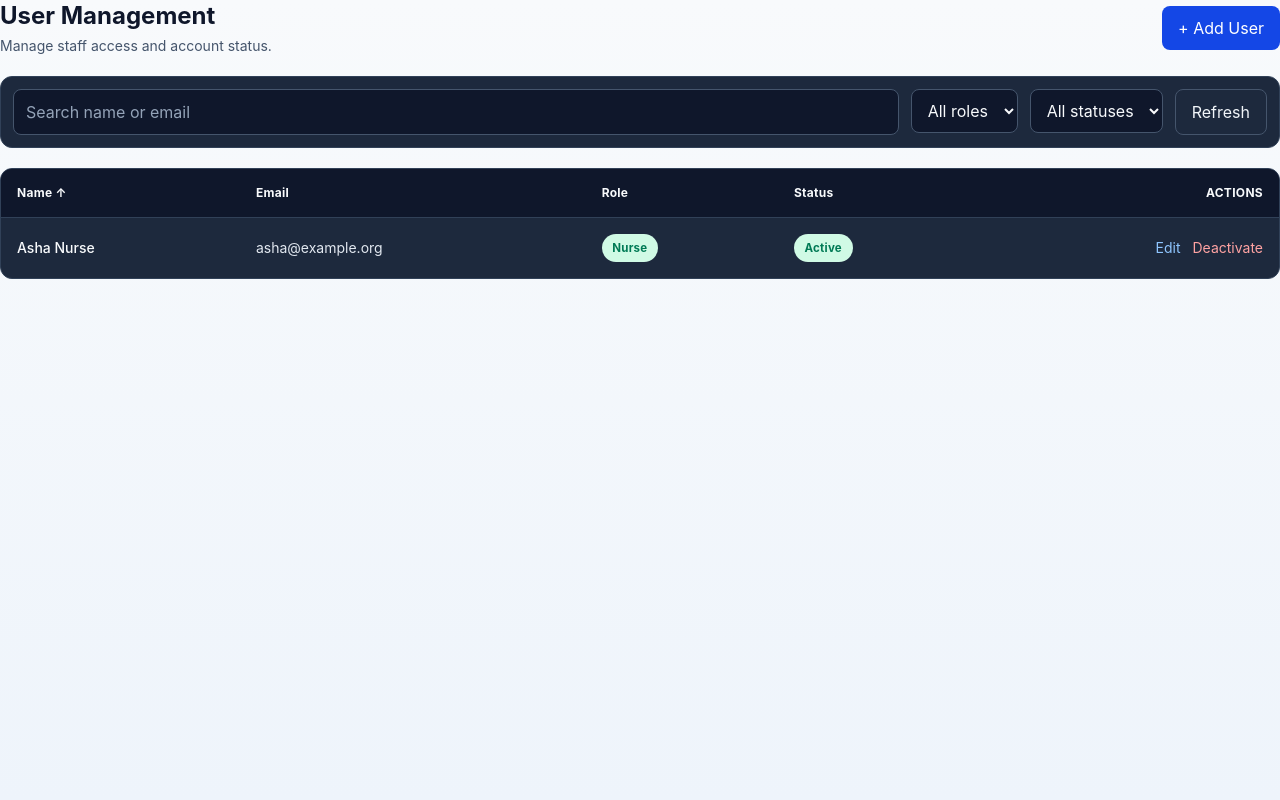
Admin user management › creates a user and refreshes the list after the save succeeds
Expected: the text "Asha Nurse" is shown, [1, 218, 240, 278]
Click the button "+ Add User" at (1221, 28), box [1162, 6, 1279, 50]
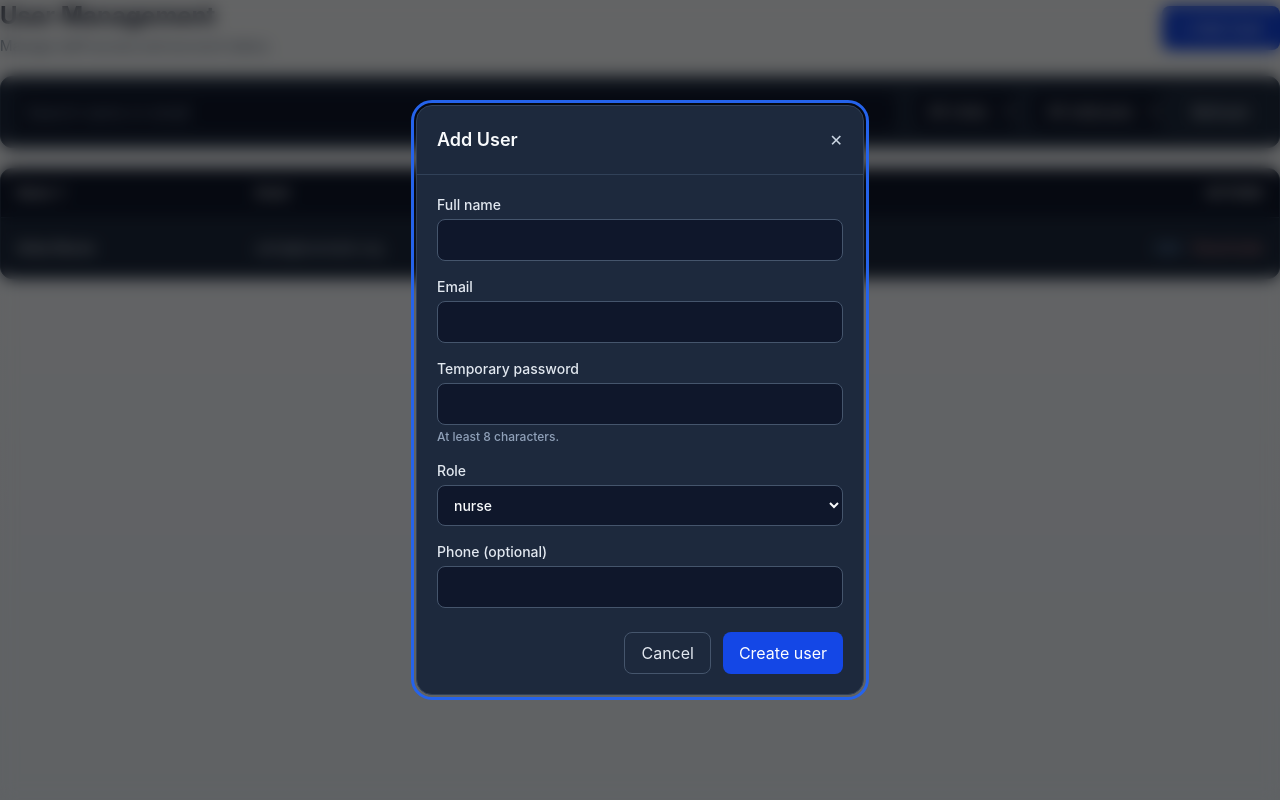
Type "Maya Doctor" into the field labelled "Full name" at (640, 240), box [437, 219, 843, 261]
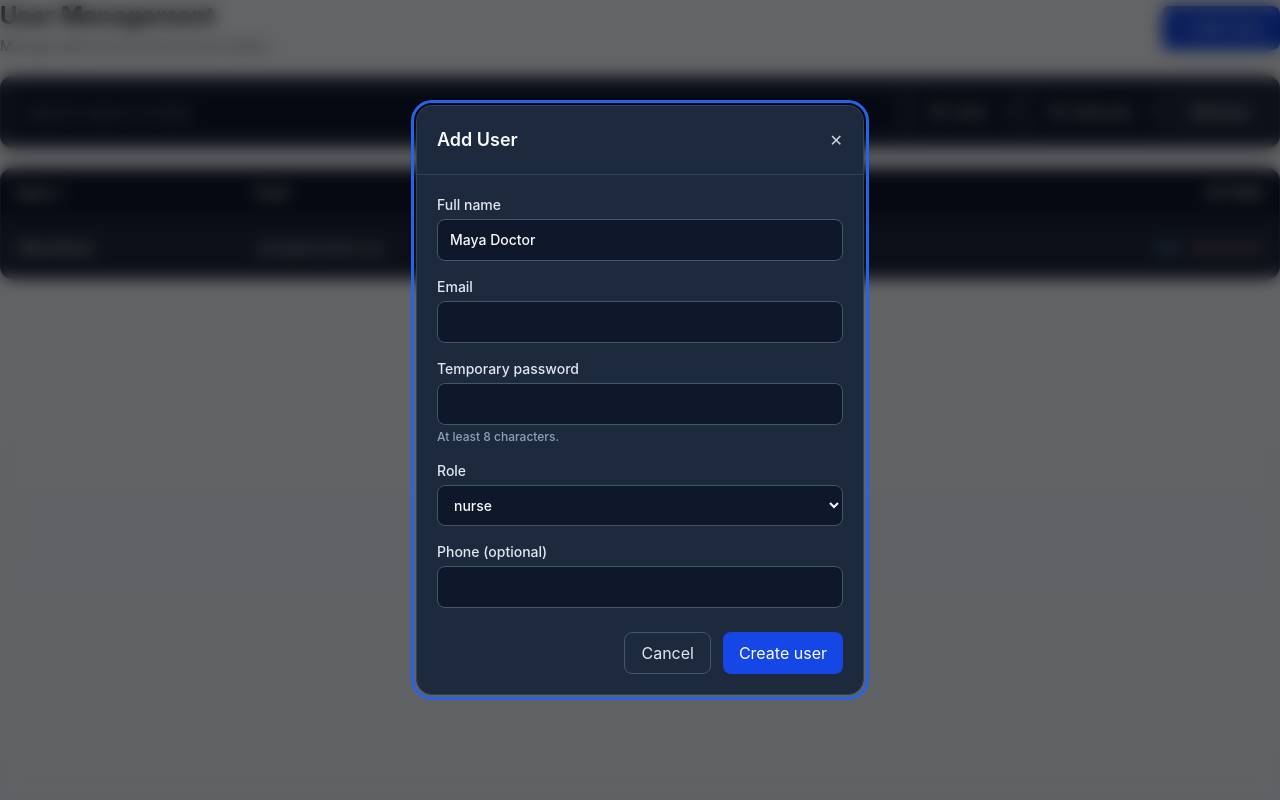
Type "maya@example.org" into the field labelled "Email" at (640, 322), box [437, 301, 843, 343]
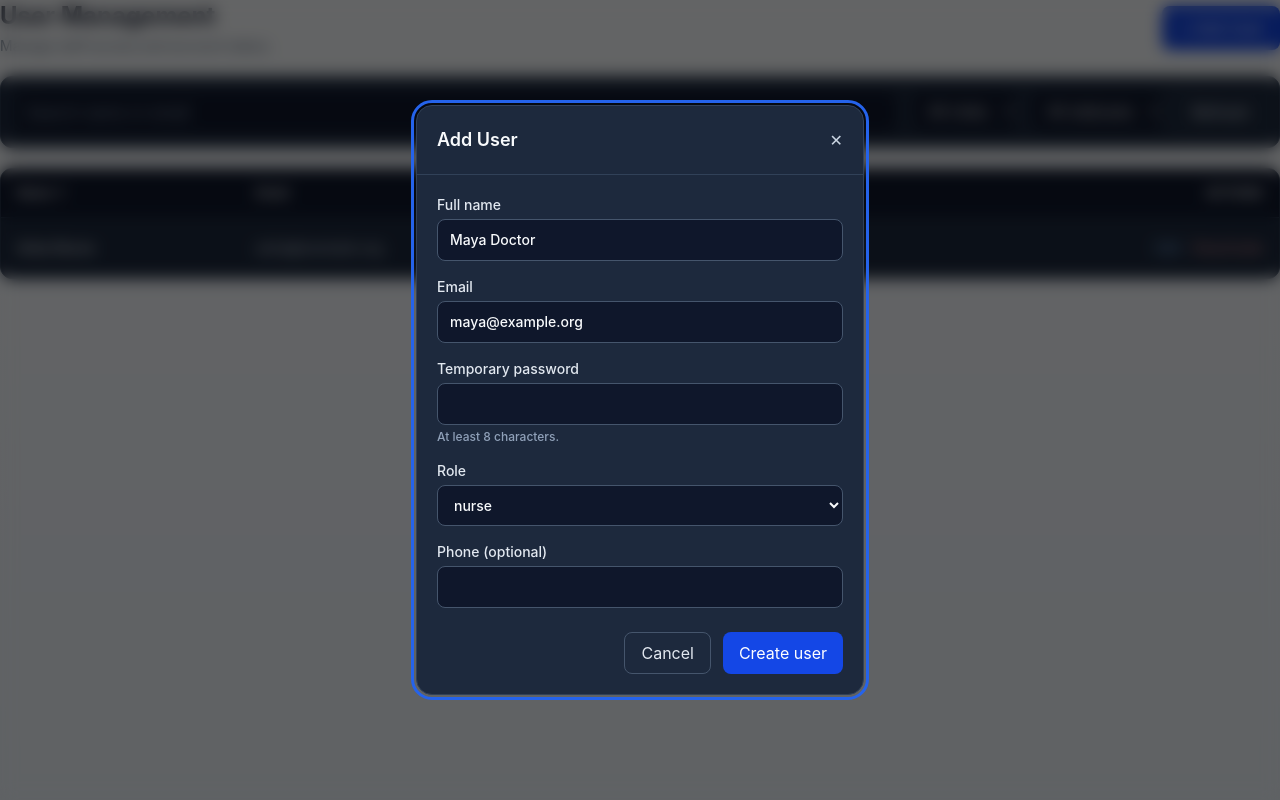
Type "secure-pass-123" into the password field labelled "Temporary password At least 8 characters." at (640, 404), box [437, 383, 843, 425]
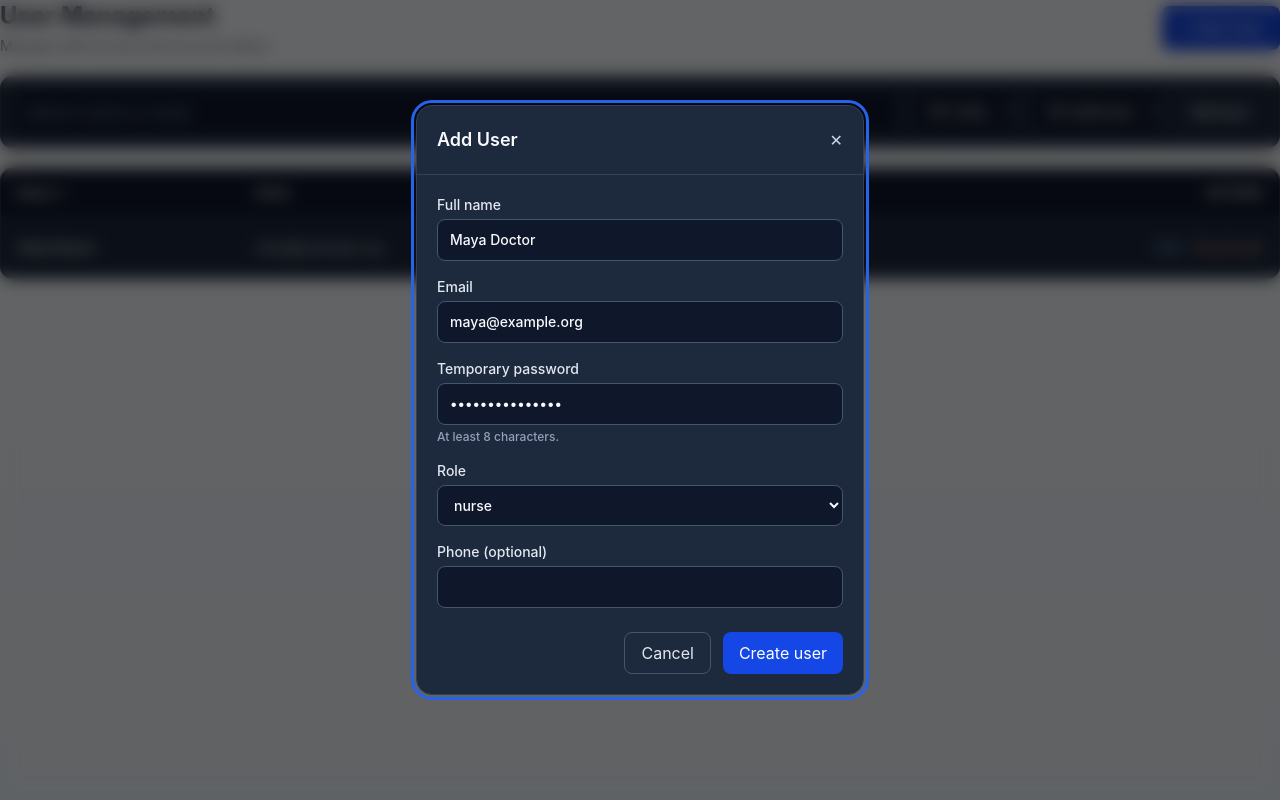
Select "doctor" in the dropdown labelled "Role" at (640, 506), box [437, 485, 843, 526]
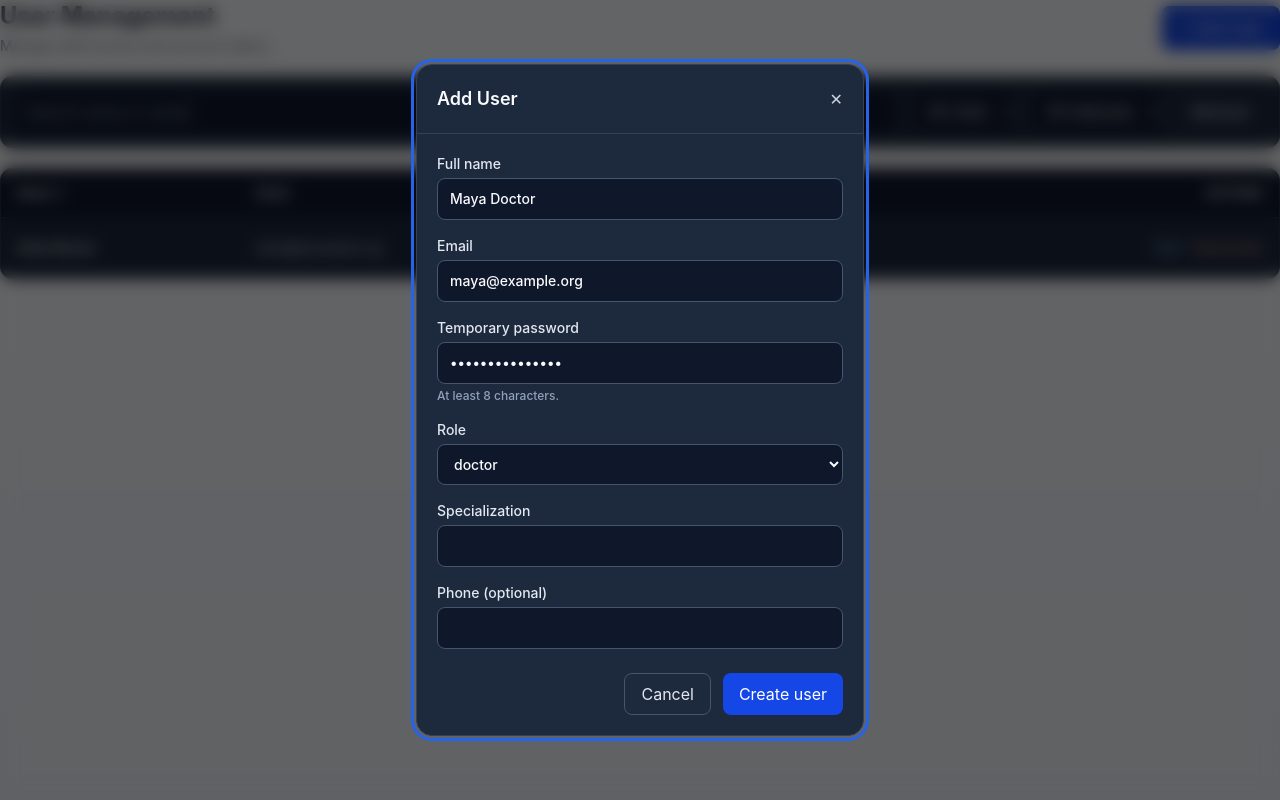
Click the button "Create user" at (783, 694), box [723, 673, 843, 715]
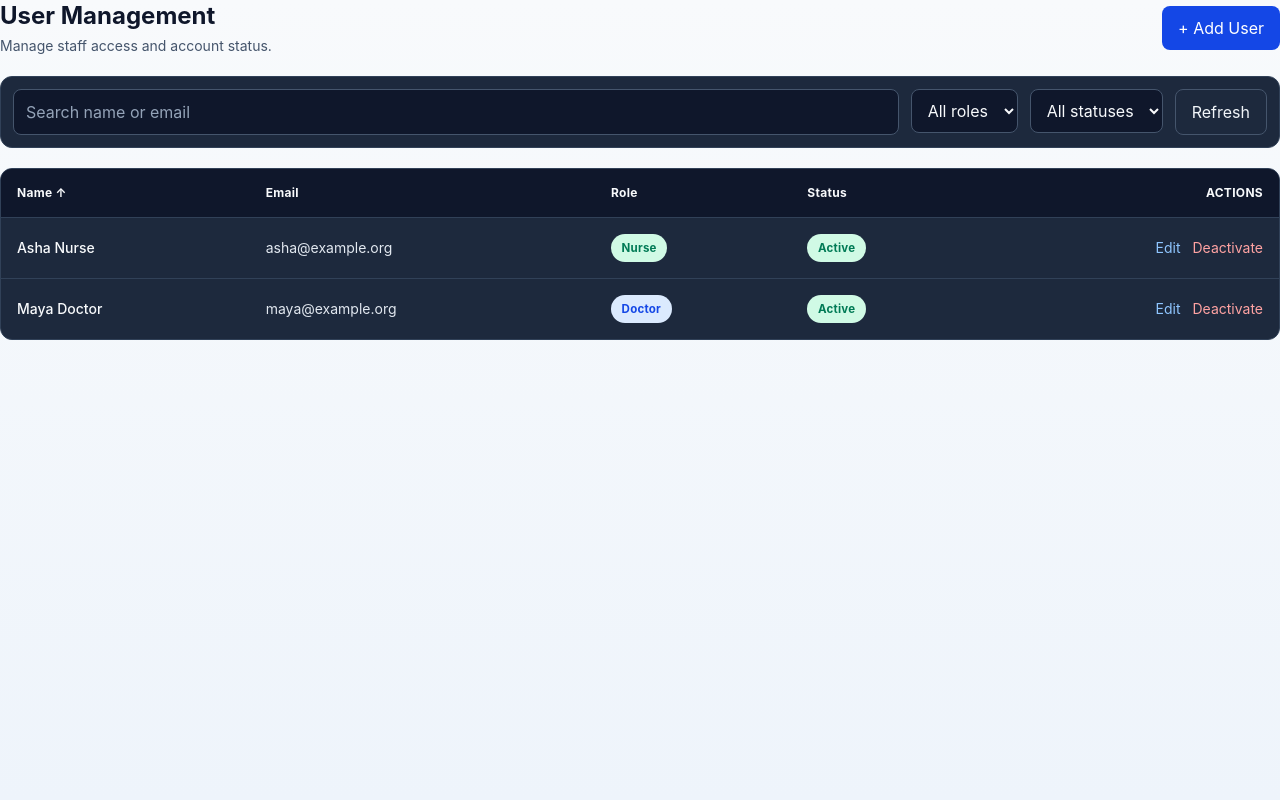
Expected: the text "Maya Doctor" is shown, [1, 278, 250, 339]
